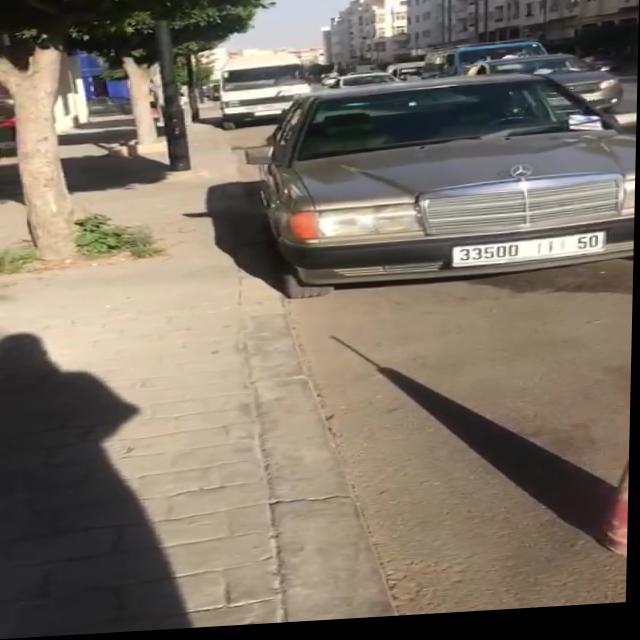License-Plate: (454, 240, 607, 272)
